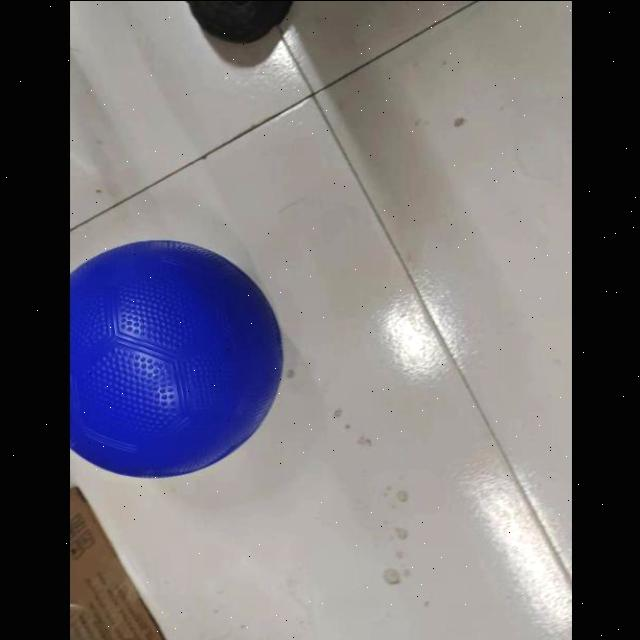B: (70, 236, 286, 484)
